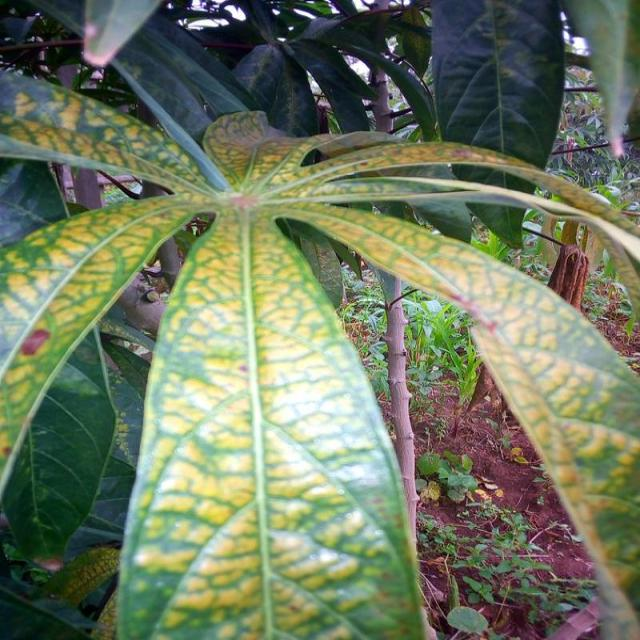cassava leaf: (1, 63, 638, 638), (114, 199, 430, 638)
